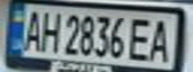2: (60, 10, 81, 56)
3: (93, 12, 112, 57)
6: (106, 13, 130, 60)
8: (78, 11, 96, 57)
A: (145, 16, 175, 63), (21, 7, 45, 53)
E: (127, 14, 157, 62)
H: (39, 7, 63, 54)
